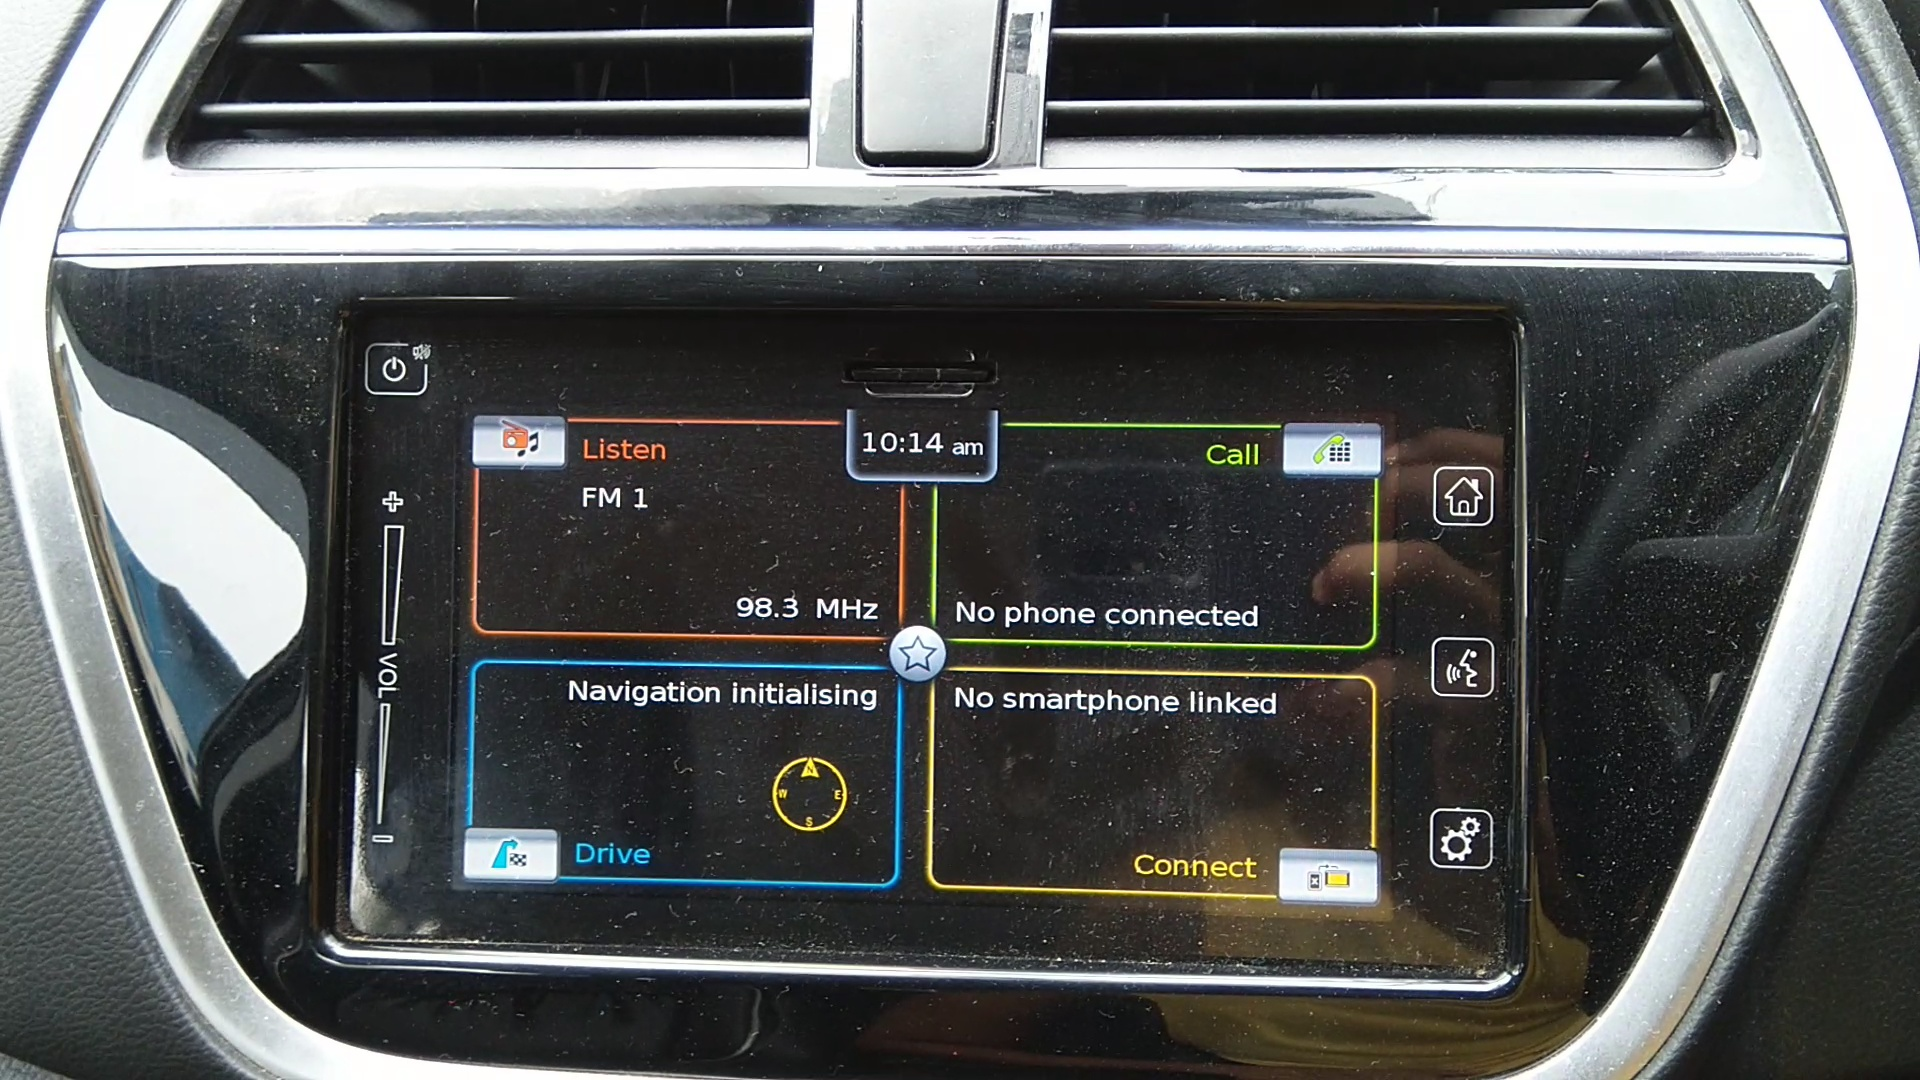touch_infotainment: (281, 277, 1575, 985)
